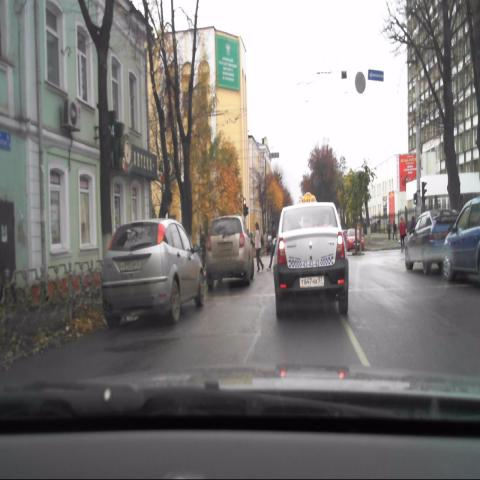5_7_2: (368, 68, 384, 81)
